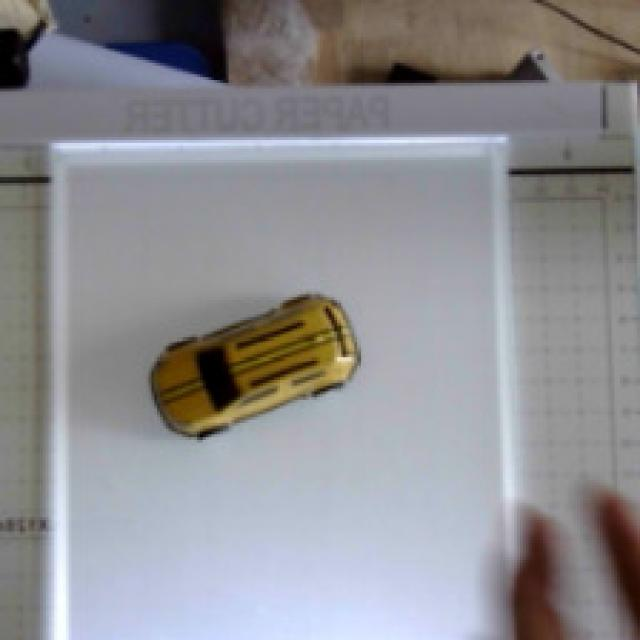Yellow Car: (128, 251, 404, 489)
